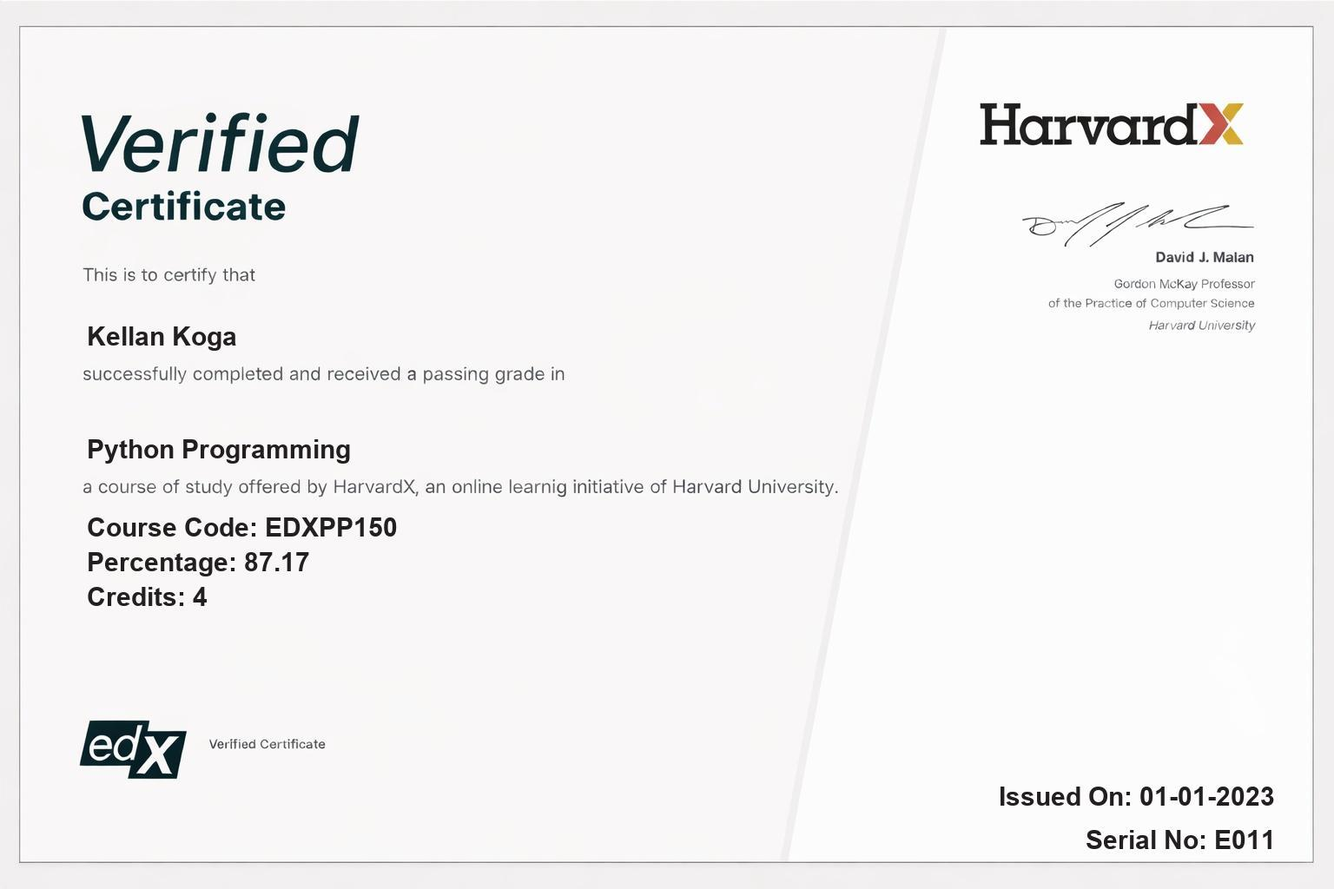Course Code: (259, 508, 414, 545)
Course Name: (75, 424, 358, 472)
Credits: (187, 579, 220, 614)
Issued On: (1136, 776, 1289, 816)
Percentage: (240, 540, 312, 580)
Serial No: (1210, 815, 1290, 863)
Student Name: (77, 314, 248, 362)
